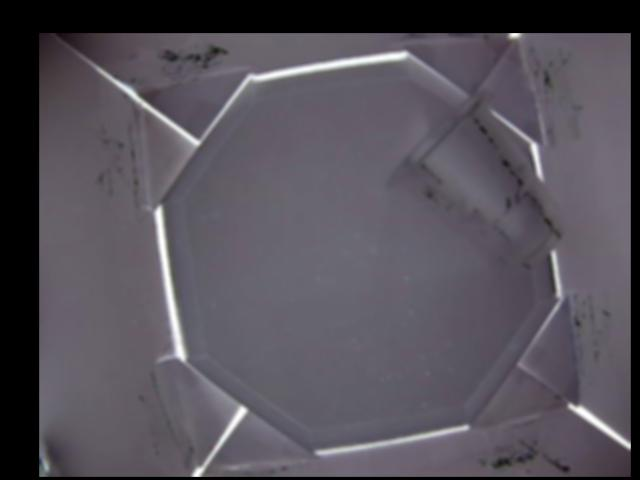Cup: (387, 89, 568, 268)
